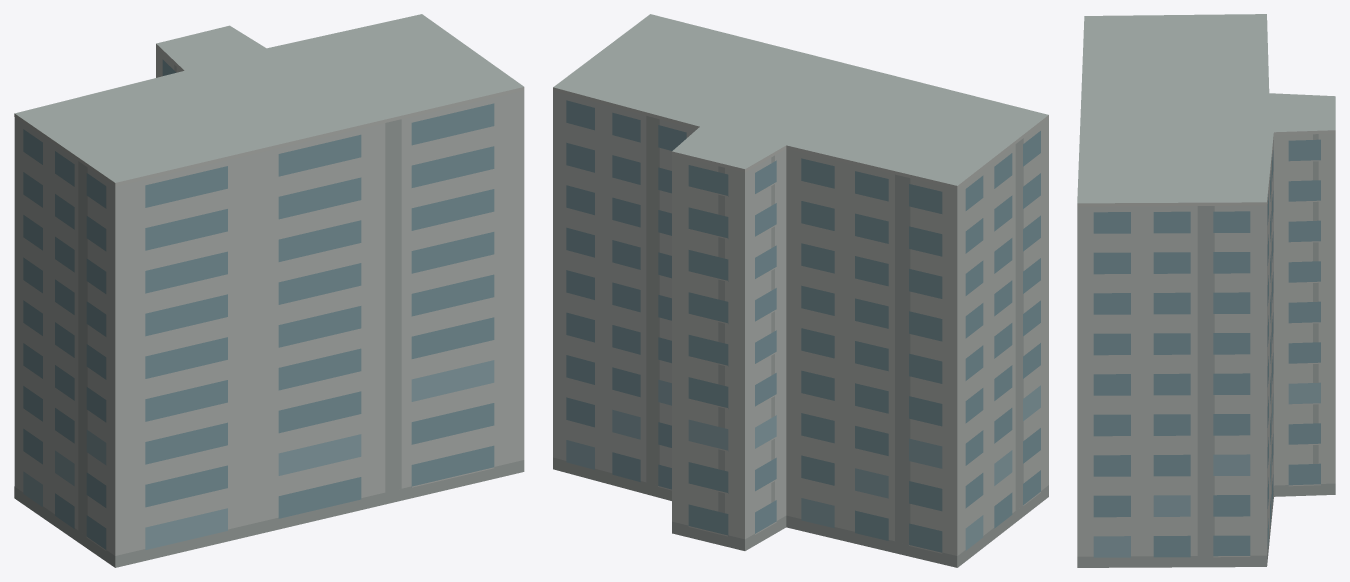
Rendered from residential-2a6af558-642d-45e6-b458-cafe21b7be89.glb.
3 views of the same model, side by side, from view 1: azimuth 30°, elevation 25°; view 2: azimuth 150°, elevation 25°; view 3: azimuth 270°, elevation 25° (orthographic). The views are drawn at different scales.
Parts seen in each view (by area): view 1: residential-2a6af558-642d-45e6-b458-cafe21b7be89.tmp; view 2: residential-2a6af558-642d-45e6-b458-cafe21b7be89.tmp; view 3: residential-2a6af558-642d-45e6-b458-cafe21b7be89.tmp.
Boxes of the visible parts, left/top/right/bottom form: residential-2a6af558-642d-45e6-b458-cafe21b7be89.tmp: left=14, top=14, right=524, bottom=567; residential-2a6af558-642d-45e6-b458-cafe21b7be89.tmp: left=553, top=14, right=1048, bottom=567; residential-2a6af558-642d-45e6-b458-cafe21b7be89.tmp: left=1077, top=14, right=1335, bottom=567.
Bounding box in the file's own units: 30.08 × 27 × 17.36.
